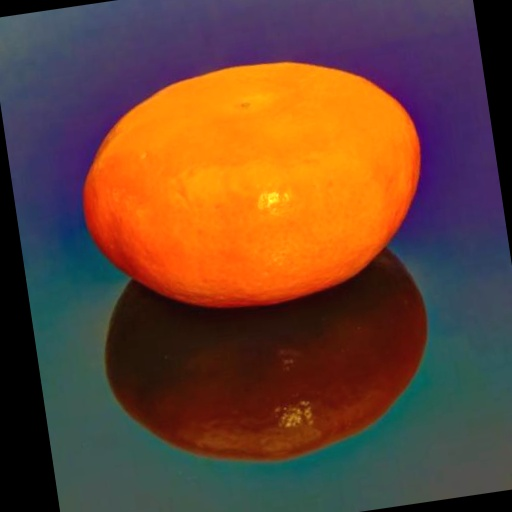fruit: (84, 63, 420, 307), (106, 251, 426, 461)
